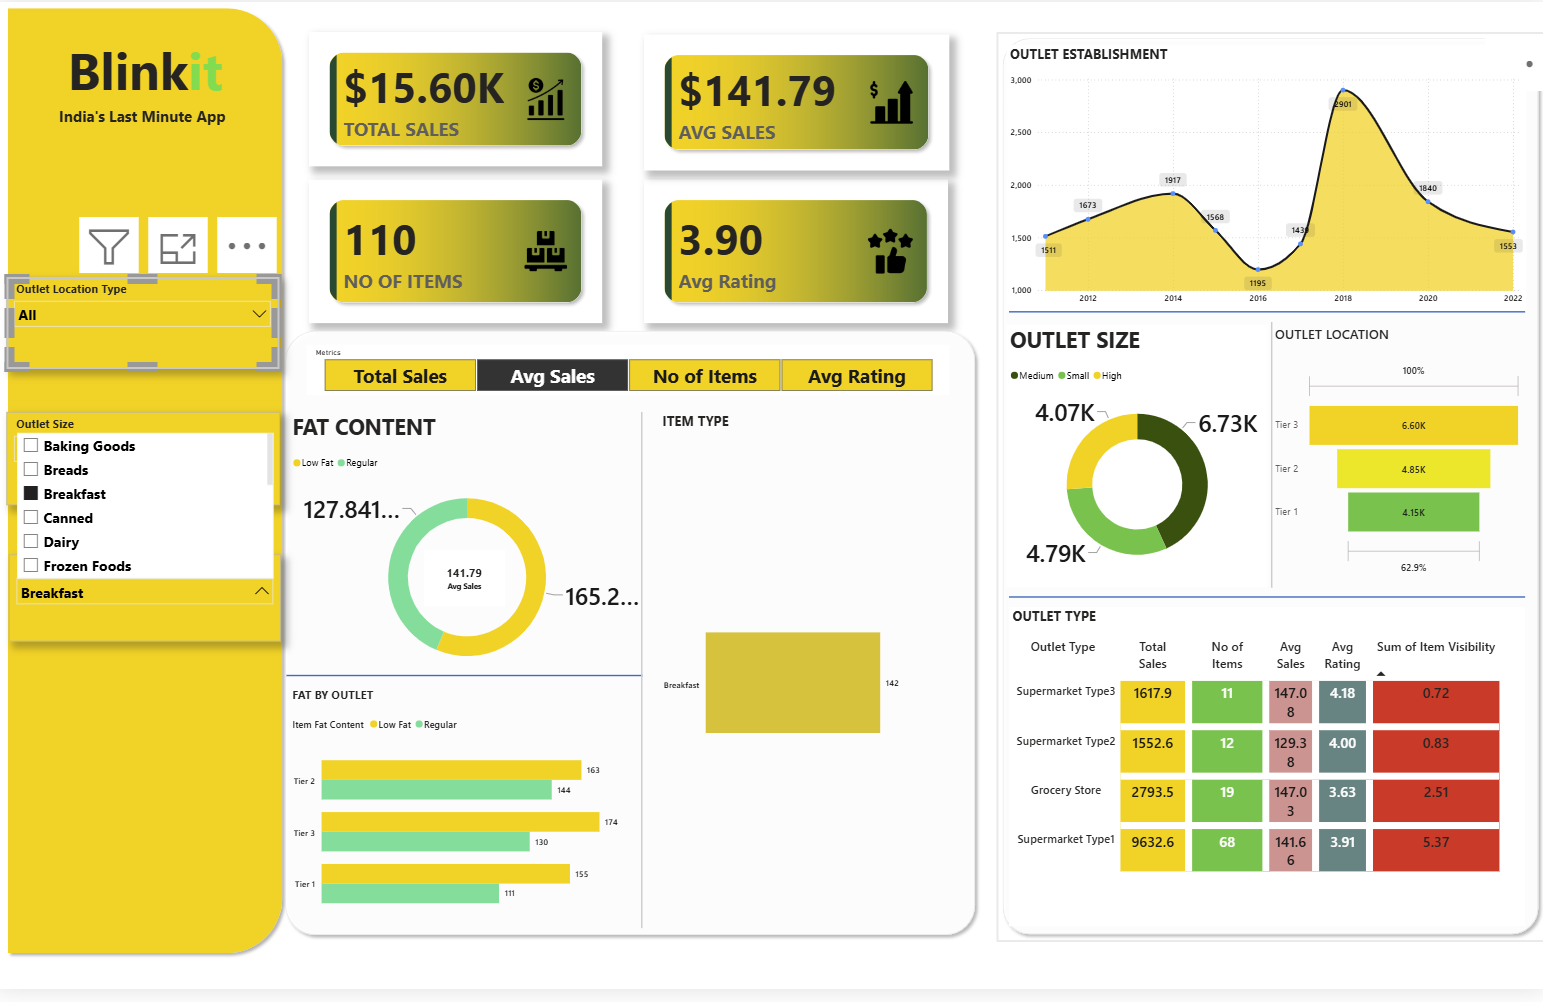

Layout of this report page (visuals, bound fields, positions):
{"tool":"powerbi","page":{"name":"Page 1","canvas":[2200,1400],"ordinal":0},"visuals":[{"type":"shape","box":[10.8,0,406.9,1357.1],"z":0},{"type":"textbox","box":[10.8,43.3,406.9,142.9],"z":1000},{"type":"textbox","box":[2.2,140.7,413.4,71.4],"z":2000},{"type":"cardVisual","fields":{"Data":["BlinkIT Grocery Data.No of Items"]},"box":[445.9,253.2,415.6,203.5],"z":3000},{"type":"cardVisual","fields":{"Data":["BlinkIT Grocery Data.Total Sales"]},"box":[445.9,43.3,415.6,190.5],"z":4000},{"type":"cardVisual","fields":{"Data":["BlinkIT Grocery Data.Avg Rating"]},"box":[922.1,253.2,430.7,203.5],"z":5000},{"type":"cardVisual","fields":{"Data":["BlinkIT Grocery Data.Avg Sales"]},"box":[919.9,45.5,432.9,192.6],"z":6000},{"type":"shape","box":[404.8,456.7,995.7,874.5],"z":7000},{"type":"donutChart","title":"FAT CONTENT","fields":{"Y":["BlinkIT Grocery Data.Avg Sales"],"Category":["BlinkIT Grocery Data.Item Fat Content"]},"box":[419.9,582.3,504.3,387.4],"z":8000},{"type":"slicer","fields":{"Values":["Metrics 2.Metrics"]},"box":[441.6,484.9,911.3,71.4],"z":9000},{"type":"cardVisual","fields":{"Data":["BlinkIT Grocery Data.Avg Sales"]},"box":[610.4,777.1,114.7,80.1],"z":10000},{"type":"clusteredBarChart","title":"FAT BY OUTLET","fields":{"Y":["BlinkIT Grocery Data.Avg Sales"],"Category":["BlinkIT Grocery Data.Outlet Location Type"],"Series":["BlinkIT Grocery Data.Item Fat Content"]},"box":[417.8,969.7,504.3,344.2],"z":11000},{"type":"shape","box":[415.6,893.9,504.3,123.4],"z":12000},{"type":"shape","box":[898.3,582.3,43.3,731.6],"z":13000},{"type":"barChart","title":"ITEM TYPE","fields":{"Y":["BlinkIT Grocery Data.Avg Sales"],"Category":["BlinkIT Grocery Data.Item Type"]},"box":[941.6,582.3,419.9,731.6],"z":14000},{"type":"shape","box":[1422.1,43.3,777.1,1287.9],"z":15000},{"type":"lineChart","title":"OUTLET ESTABLISHMENT","fields":{"Y":["BlinkIT Grocery Data.Total Sales"],"Category":["BlinkIT Grocery Data.Outlet Establishment Year"]},"box":[1434.5,61.9,736.8,378.2],"z":16000},{"type":"shape","box":[1439.4,333.3,731.6,212.1],"z":17000},{"type":"donutChart","title":"OUTLET SIZE","fields":{"Category":["BlinkIT Grocery Data.Outlet Size"],"Y":["BlinkIT Grocery Data.Total Sales"]},"box":[1435.1,456.7,370.1,372.3],"z":18000},{"type":"shape","box":[1774.9,452.4,71.4,376.6],"z":19000},{"type":"funnel","title":"OUTLET LOCATION","fields":{"Y":["Sum(BlinkIT Grocery Data.Sales)"],"Category":["BlinkIT Grocery Data.Outlet Location Type"]},"box":[1811.7,456.7,359.3,372.3],"z":20000},{"type":"shape","box":[1439.4,803,731.6,77.9],"z":21000},{"type":"pivotTable","title":"OUTLET TYPE","fields":{"Rows":["BlinkIT Grocery Data.Outlet Type"],"Values":["BlinkIT Grocery Data.Total Sales","BlinkIT Grocery Data.No of Items","BlinkIT Grocery Data.Avg Sales","BlinkIT Grocery Data.Avg Rating","Sum(BlinkIT Grocery Data.Item Visibility)"]},"box":[1439.4,859.3,731.6,452.4],"z":22000},{"type":"slicer","fields":{"Values":["BlinkIT Grocery Data.Outlet Location Type"]},"box":[19.5,389.6,385.3,129.9],"z":23000},{"type":"slicer","fields":{"Values":["BlinkIT Grocery Data.Outlet Size"]},"box":[19.5,582.3,387.4,132],"z":24000},{"type":"slicer","fields":{"Values":["BlinkIT Grocery Data.Item Type"]},"box":[21.6,783.6,385.3,123.4],"z":25000}]}

Visuals, with their boxes in screenshot pixels (x1, y1, x2, y2), scaled from the page's 2200x1400 canvas onto the 1543x1002 screenshot:
shape: pyautogui.locateOnScreen(8, 0, 293, 971)
textbox: pyautogui.locateOnScreen(8, 31, 293, 133)
textbox: pyautogui.locateOnScreen(2, 101, 291, 152)
cardVisual - BlinkIT Grocery Data.No of Items: pyautogui.locateOnScreen(313, 181, 604, 327)
cardVisual - BlinkIT Grocery Data.Total Sales: pyautogui.locateOnScreen(313, 31, 604, 167)
cardVisual - BlinkIT Grocery Data.Avg Rating: pyautogui.locateOnScreen(647, 181, 949, 327)
cardVisual - BlinkIT Grocery Data.Avg Sales: pyautogui.locateOnScreen(645, 33, 949, 170)
shape: pyautogui.locateOnScreen(284, 327, 982, 953)
"FAT CONTENT" donutChart: pyautogui.locateOnScreen(295, 417, 648, 694)
slicer - Metrics 2.Metrics: pyautogui.locateOnScreen(310, 347, 949, 398)
cardVisual - BlinkIT Grocery Data.Avg Sales: pyautogui.locateOnScreen(428, 556, 509, 614)
"FAT BY OUTLET" clusteredBarChart: pyautogui.locateOnScreen(293, 694, 647, 940)
shape: pyautogui.locateOnScreen(291, 640, 645, 728)
shape: pyautogui.locateOnScreen(630, 417, 660, 940)
"ITEM TYPE" barChart: pyautogui.locateOnScreen(660, 417, 955, 940)
shape: pyautogui.locateOnScreen(997, 31, 1542, 953)
"OUTLET ESTABLISHMENT" lineChart: pyautogui.locateOnScreen(1006, 44, 1523, 315)
shape: pyautogui.locateOnScreen(1010, 239, 1523, 390)
"OUTLET SIZE" donutChart: pyautogui.locateOnScreen(1007, 327, 1266, 593)
shape: pyautogui.locateOnScreen(1245, 324, 1295, 593)
"OUTLET LOCATION" funnel: pyautogui.locateOnScreen(1271, 327, 1523, 593)
shape: pyautogui.locateOnScreen(1010, 575, 1523, 630)
"OUTLET TYPE" pivotTable: pyautogui.locateOnScreen(1010, 615, 1523, 939)
slicer - BlinkIT Grocery Data.Outlet Location Type: pyautogui.locateOnScreen(14, 279, 284, 372)
slicer - BlinkIT Grocery Data.Outlet Size: pyautogui.locateOnScreen(14, 417, 285, 511)
slicer - BlinkIT Grocery Data.Item Type: pyautogui.locateOnScreen(15, 561, 285, 649)
